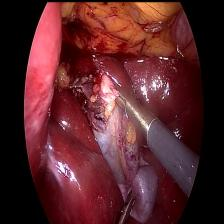Grasper: (108, 78, 128, 120), (117, 190, 138, 218)
